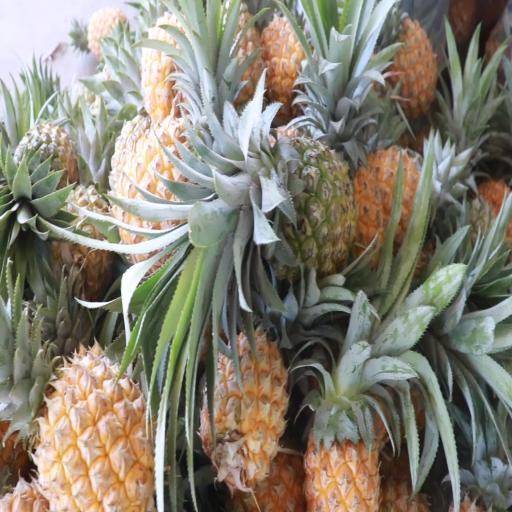Pineapple - v8 v1: (15, 327, 169, 512), (108, 104, 250, 263), (303, 328, 385, 512), (203, 322, 288, 496)
